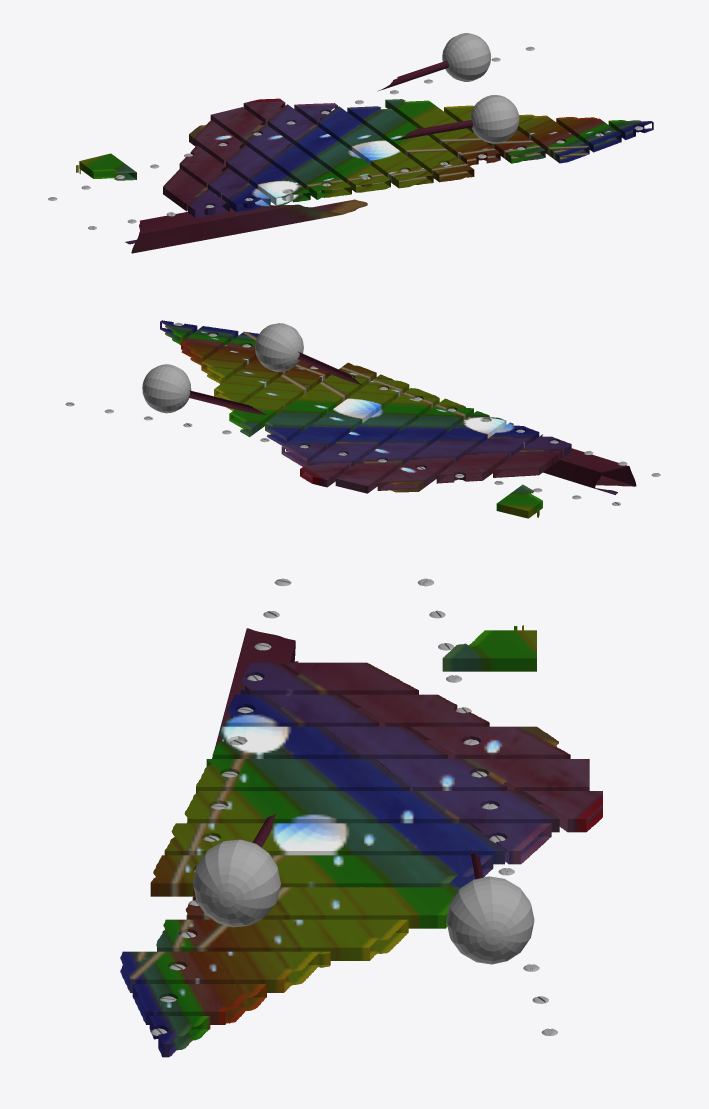
The model's file is xylophone.obj.
3 renders of one model, top to bottom at view 1: azimuth 30°, elevation 25°; view 2: azimuth 150°, elevation 25°; view 3: azimuth 270°, elevation 25°, orthographic. The views are drawn at different scales.
Parts seen in each view (by area): view 1: Cube, Circle.001, Circle, Cube.002; view 2: Cube, Circle, Circle.001, Cube.002; view 3: Cube, Circle.001, Circle, Cube.002.
Part boxes in pixels (x1,y1,x2,y2): Cube: [76, 98, 653, 253]; Circle.001: [392, 95, 519, 143]; Circle: [378, 33, 490, 90]; Cube.002: [48, 46, 643, 229]; Cube: [160, 320, 636, 518]; Circle: [142, 364, 266, 414]; Circle.001: [255, 323, 361, 385]; Cube.002: [65, 322, 660, 505]; Cube: [120, 625, 602, 1057]; Circle.001: [193, 813, 280, 927]; Circle: [446, 850, 534, 964]; Cube.002: [151, 578, 557, 1035].
Bounding box in the file's own units: 48.26 × 6.01 × 28.94.
